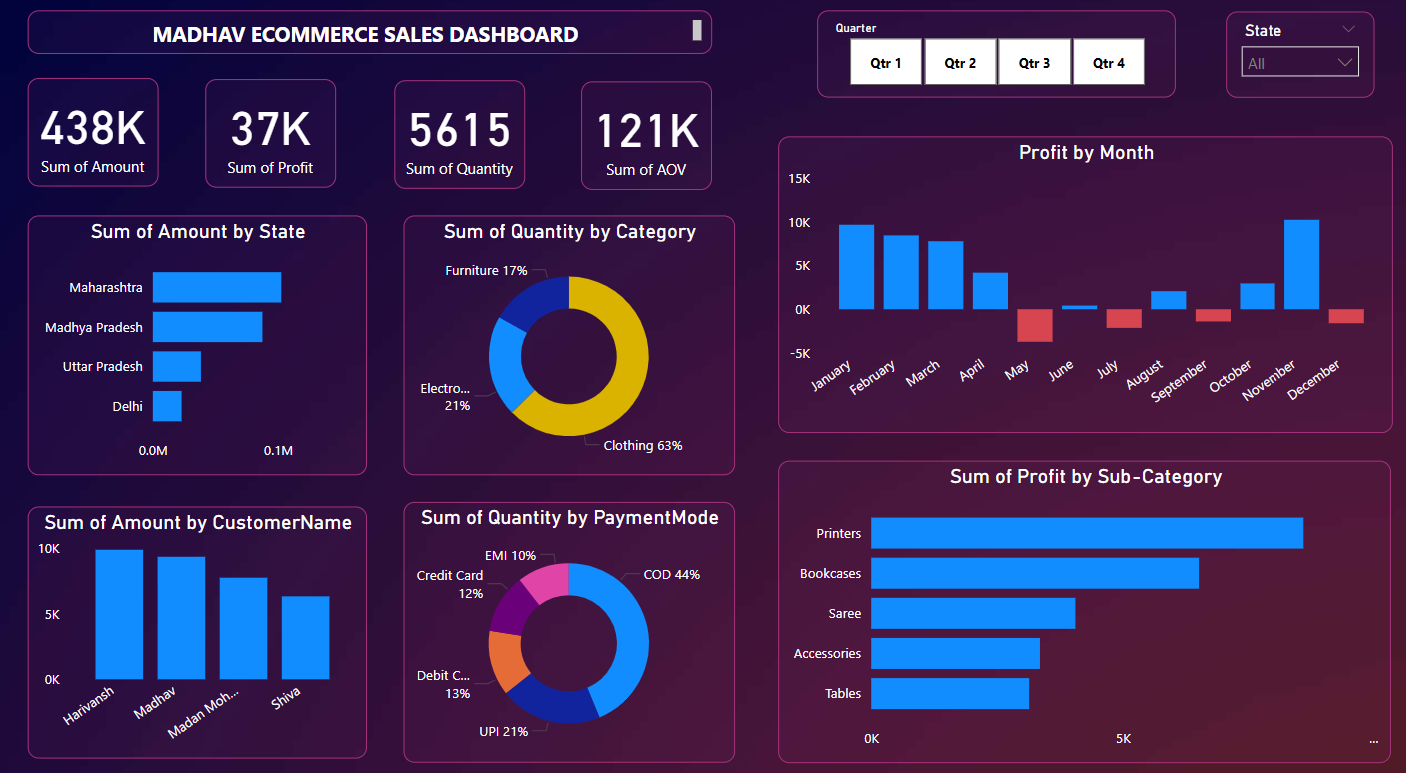

The dashboard page shown, as its layout file describes it:
{"tool":"powerbi","page":{"name":"Page 1","canvas":[1280,720],"ordinal":0},"visuals":[{"type":"textbox","box":[33,16.5,615.7,39.2],"z":0},{"type":"columnChart","title":"Profit by Month","fields":{"Category":["Orders.Order Date.Variation.Date Hierarchy.Month"],"Y":["Details.Profit"]},"box":[708.6,130,553.9,267.1],"z":1000},{"type":"barChart","fields":{"Category":["Details.Sub-Category"],"Y":["Details.Profit"]},"box":[708.6,421.8,552.8,272.3],"z":2000},{"type":"donutChart","fields":{"Category":["Details.Category"],"Y":["Details.Quantity"]},"box":[371.3,201.1,298.1,234.1],"z":3000},{"type":"donutChart","fields":{"Y":["Details.Quantity"],"Category":["Details.PaymentMode"]},"box":[371.3,459,298.1,235.2],"z":4000},{"type":"card","fields":{"Values":["Details.Amount"]},"box":[33,77.4,117.6,98],"z":5000},{"type":"card","fields":{"Values":["Details.Profit"]},"box":[192.9,78.4,117.6,98],"z":6000},{"type":"card","fields":{"Values":["Details.Quantity"]},"box":[363.1,79.4,117.6,98],"z":7000},{"type":"card","fields":{"Values":["Details.AOV"]},"box":[531.2,80.4,117.6,98],"z":8000},{"type":"barChart","fields":{"Category":["Orders.State"],"Y":["Details.Amount"]},"box":[33,201.1,305.3,234.1],"z":8001},{"type":"columnChart","fields":{"Category":["Orders.CustomerName"],"Y":["Details.Amount"]},"box":[33,463.1,305.3,226.9],"z":8002},{"type":"slicer","fields":{"Values":["Orders.Order Date.Variation.Date Hierarchy.Quarter"]},"box":[743.6,16.5,322.8,78.4],"z":8003},{"type":"slicer","fields":{"Values":["Orders.State"]},"box":[1111.8,17.5,134.1,77.4],"z":8004}]}

Visuals, with their boxes in screenshot pixels (x1, y1, x2, y2), scaled from the page's 1280x720 canvas onto the 1406x773 screenshot:
textbox: (left=36, top=18, right=713, bottom=60)
"Profit by Month" columnChart: (left=778, top=140, right=1387, bottom=426)
barChart - Details.Sub-Category x Details.Profit: (left=778, top=453, right=1386, bottom=745)
donutChart - Details.Category x Details.Quantity: (left=408, top=216, right=735, bottom=467)
donutChart - Details.Quantity x Details.PaymentMode: (left=408, top=493, right=735, bottom=745)
card - Details.Amount: (left=36, top=83, right=165, bottom=188)
card - Details.Profit: (left=212, top=84, right=341, bottom=189)
card - Details.Quantity: (left=399, top=85, right=528, bottom=190)
card - Details.AOV: (left=583, top=86, right=713, bottom=192)
barChart - Orders.State x Details.Amount: (left=36, top=216, right=372, bottom=467)
columnChart - Orders.CustomerName x Details.Amount: (left=36, top=497, right=372, bottom=741)
slicer - Orders.Order Date.Variation.Date Hierarchy.Quarter: (left=817, top=18, right=1171, bottom=102)
slicer - Orders.State: (left=1221, top=19, right=1369, bottom=102)
